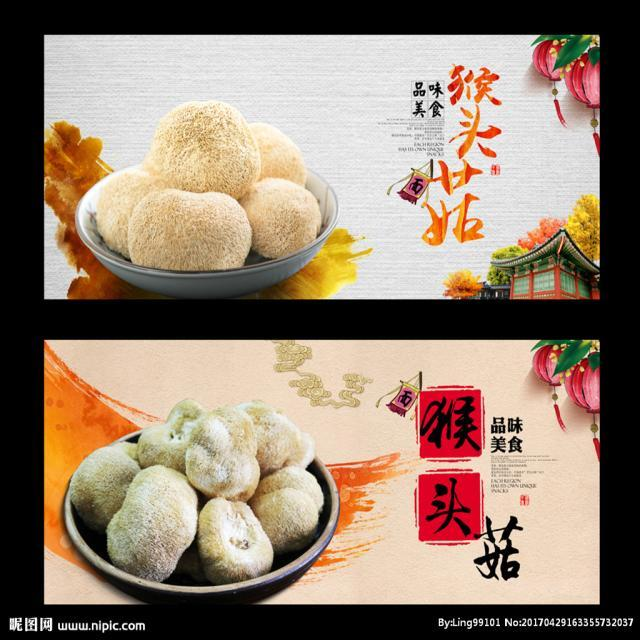Hericium erinaceus: (73, 403, 324, 576), (147, 102, 257, 193), (128, 195, 250, 268), (246, 181, 319, 256), (99, 168, 155, 253), (243, 119, 308, 188)
